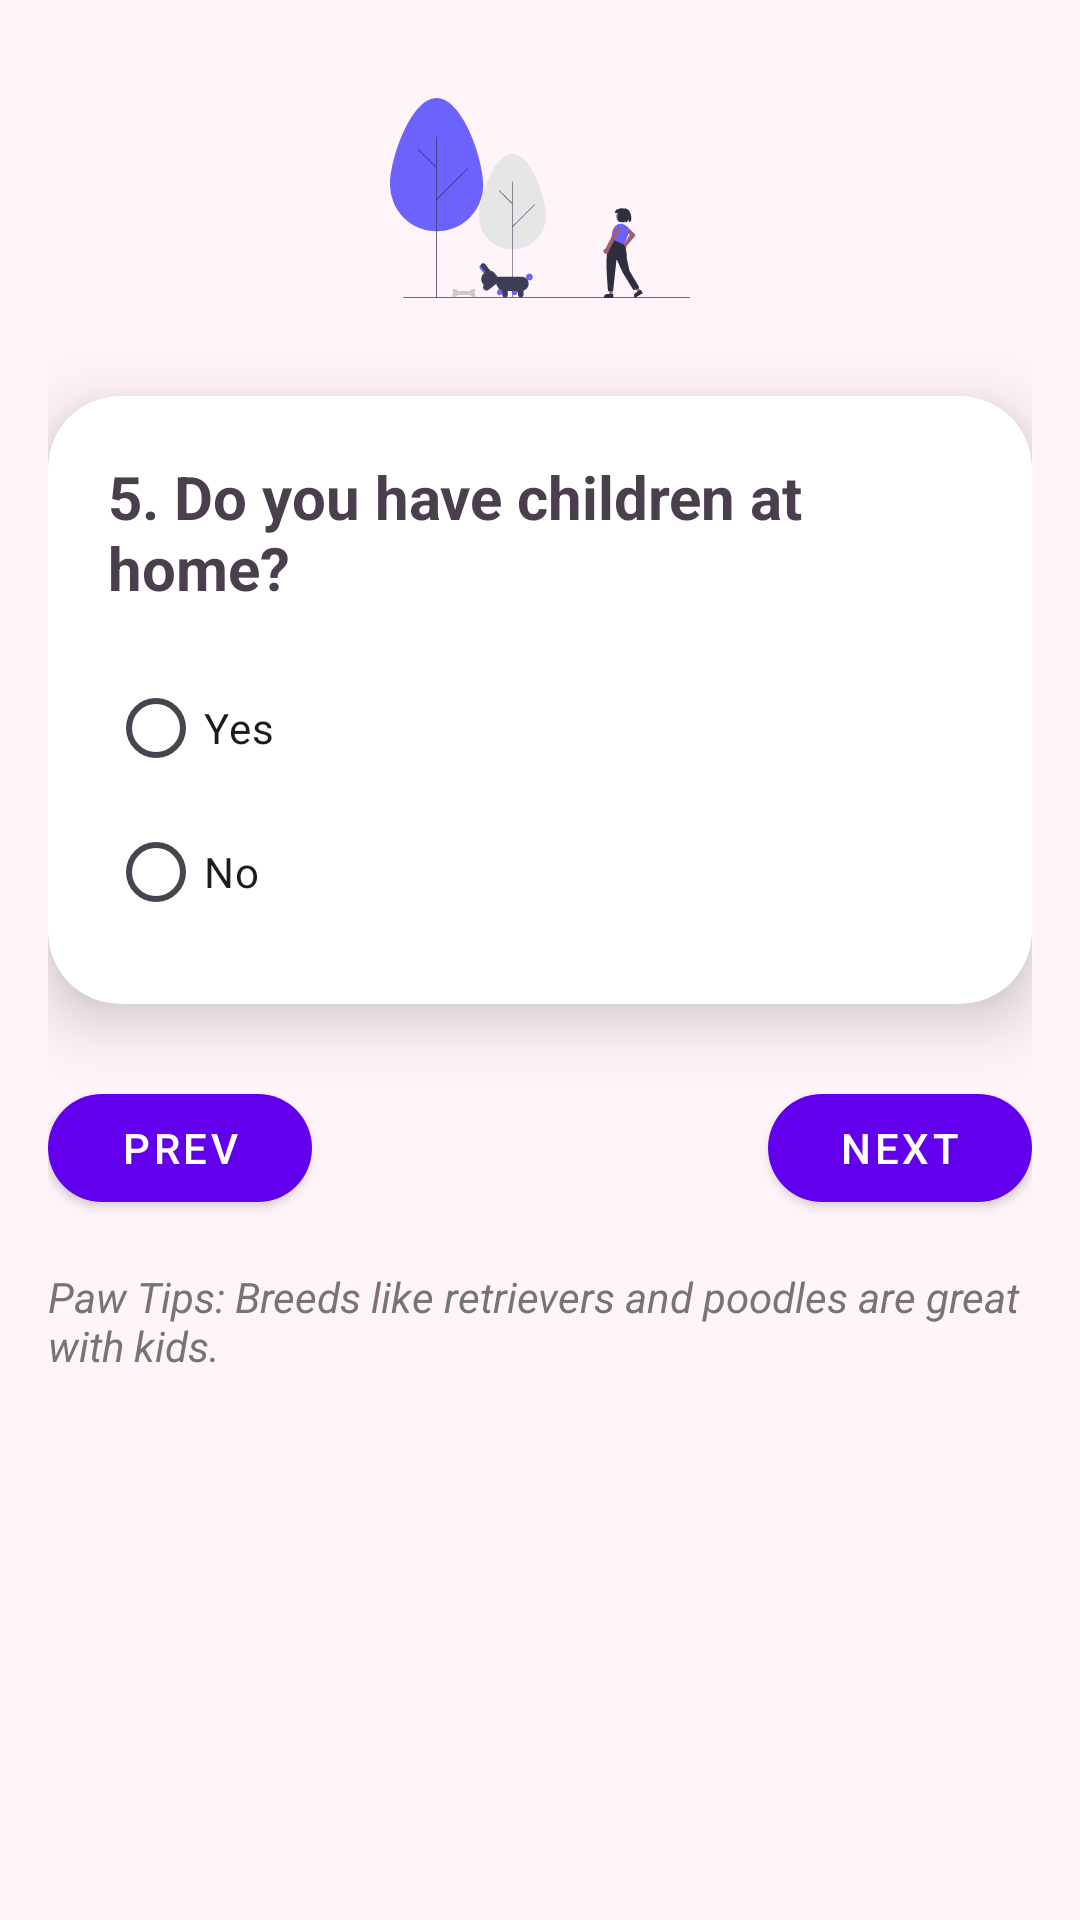

Named icons in this screenshot (1080×1920) and their centers, (x,y):
playingfetch: (540,198)
